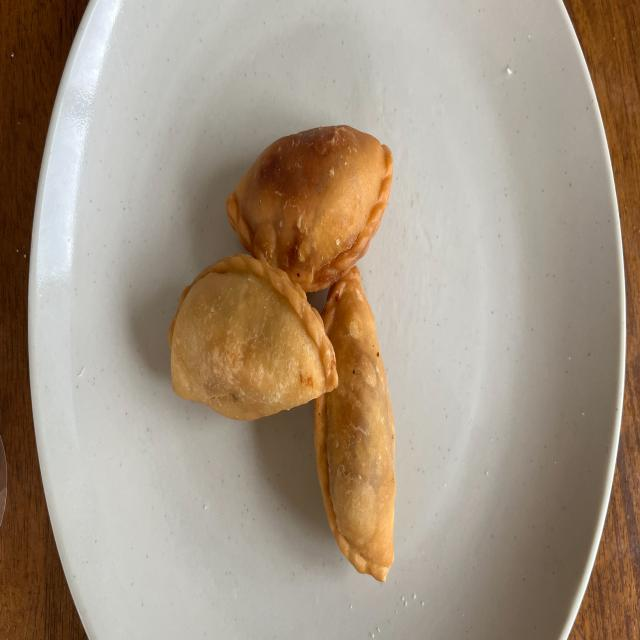karipap: (169, 253, 338, 420), (226, 124, 392, 291), (315, 267, 396, 582)
